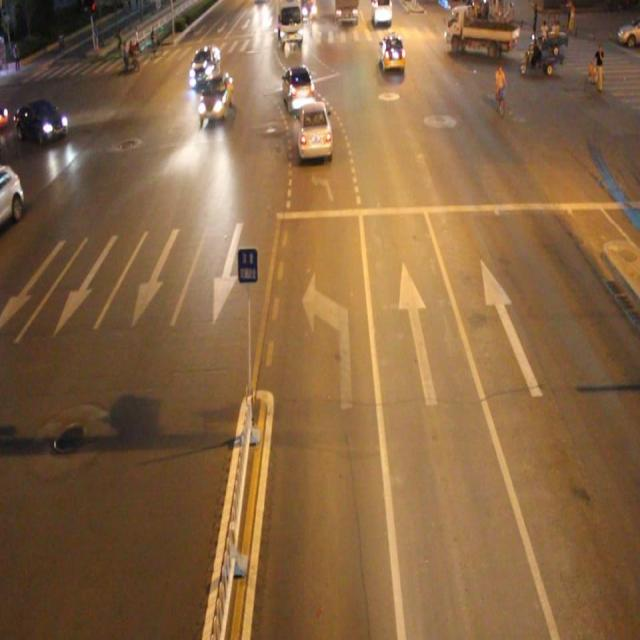car: (296, 100, 335, 163), (197, 70, 234, 122), (281, 63, 317, 116)
